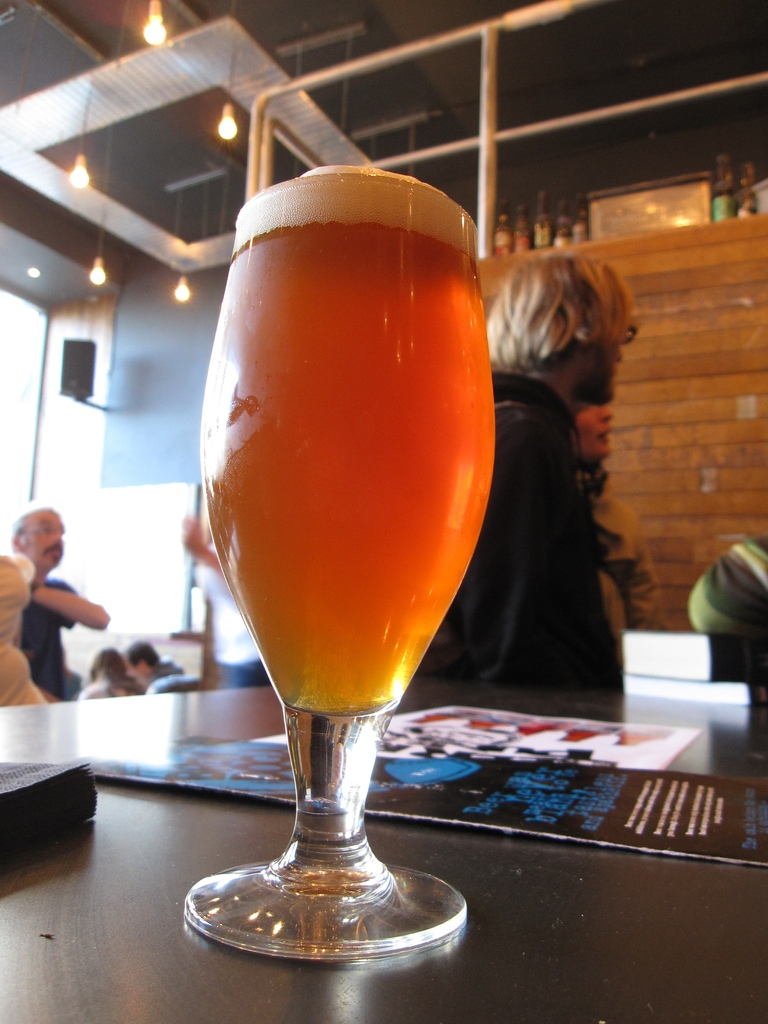Beer: (171, 163, 486, 1012)
